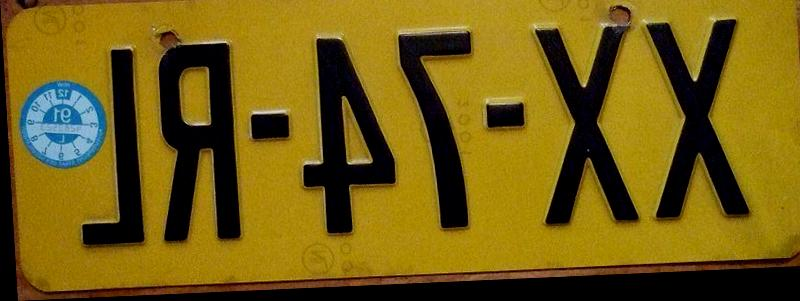License_Plate: (13, 0, 800, 286)
